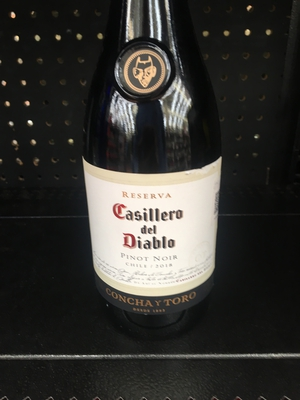casillero del diablo pinot noir: (76, 21, 225, 339)
